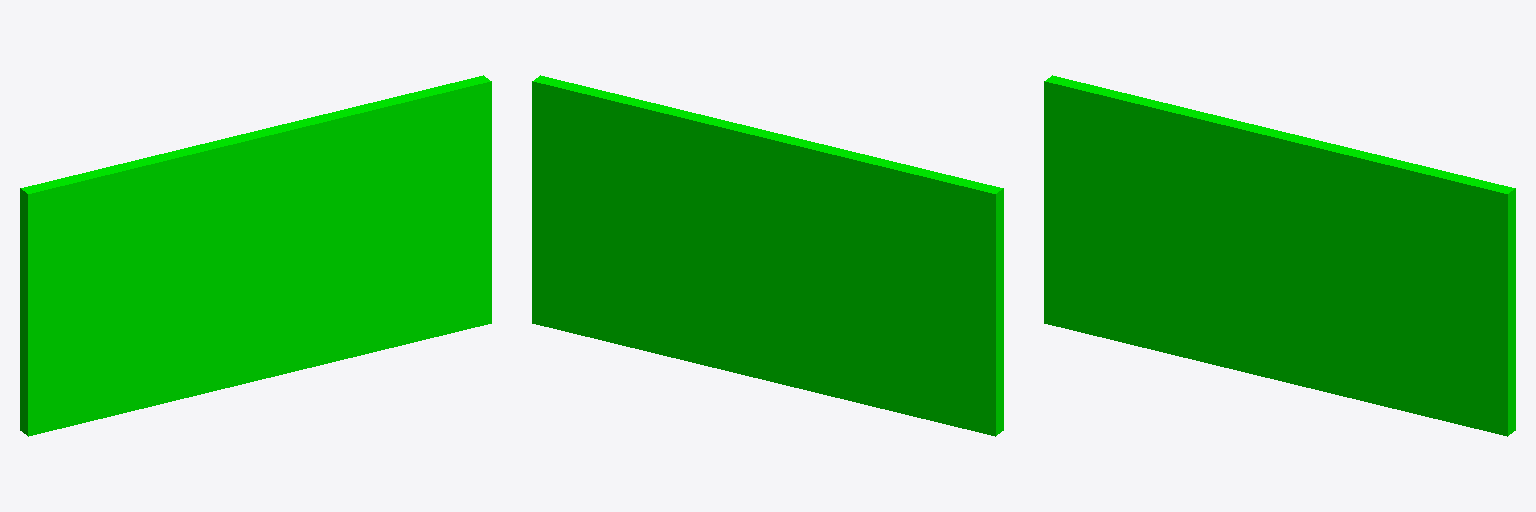
The robot description file, URDF, robot "simple_box2":
<robot name="simple_box2">
  <link name="cube">
    <inertial>
      <origin xyz="0 0 0" /> 
      <mass value="100.0" />
      <inertia  ixx="0.0" ixy="0.0"  ixz="0.0"  iyy="0.0"  iyz="0.0"  izz="0.0" />
    </inertial>
    <visual>
      <origin xyz="0 0 0"/>
      <geometry>
        <box size="1.0 0.03 0.5" />
      </geometry>
      <material name="green"><color rgba="0 1 0 1"/></material>
    </visual>
    <collision>
      <origin xyz="0 0 0"/>
      <geometry>
        <box size="1.0 0.03 0.5" />
      </geometry>
    </collision>
  </link>
</robot>

--- Facts derived from the render (not from the file) ---
Views: 3 orthographic renders of the robot side by side, from view 1: azimuth 30°, elevation 25°; view 2: azimuth 150°, elevation 25°; view 3: azimuth 330°, elevation 25°.
Model simple_box2 with 1 links and 0 joints (none), rooted at cube, posed every joint at zero.
Visible links, largest first — view 1: cube; view 2: cube; view 3: cube.
Boxes of the visible links, x1,y1,x2,y2 form: cube: (20, 75, 491, 436); cube: (532, 75, 1003, 436); cube: (1044, 75, 1515, 436).
Bounding box of the posed robot: 1 × 0.03 × 0.5 m (x, y, z).
Geometry: primitives only (box / cylinder / sphere), no mesh files.
